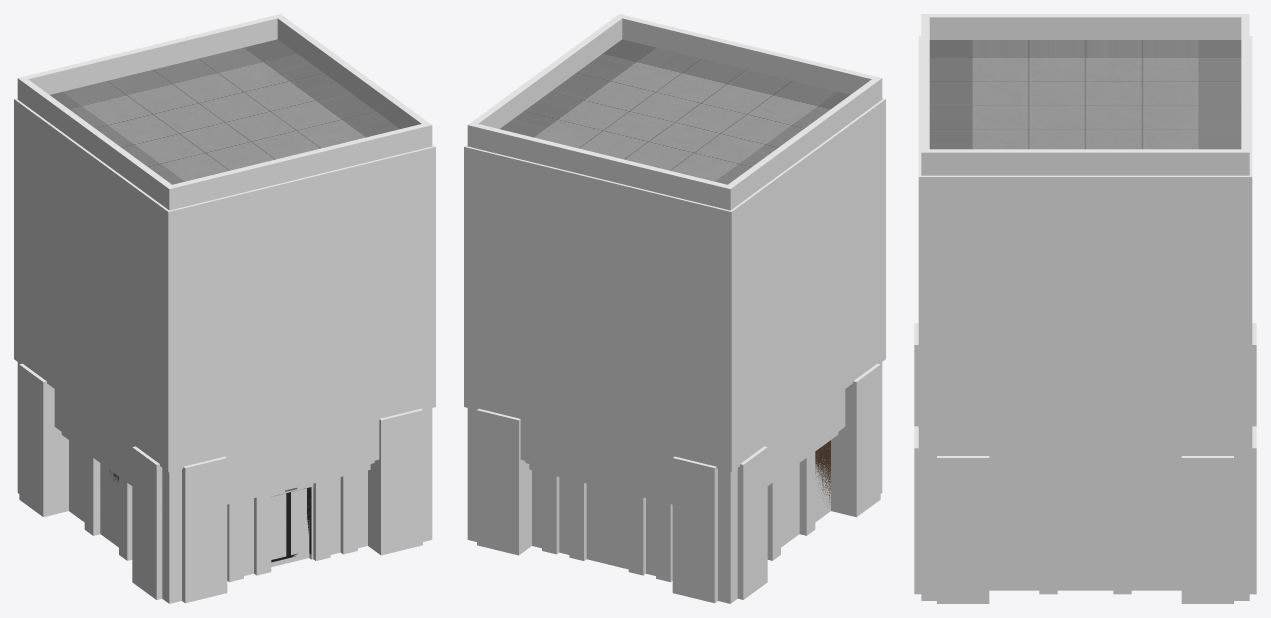
The model's file is objects_un_c03building03.gltf.
3 views of the same model, side by side, from view 1: azimuth 30°, elevation 25°; view 2: azimuth 150°, elevation 25°; view 3: azimuth 270°, elevation 25° (orthographic). The views are drawn at different scales.
Parts seen in each view (by area): view 1: um_objects_un_c03building03_model_lod0Shape:objects_un_c03bu (×2); view 2: um_objects_un_c03building03_model_lod0Shape:objects_un_c03bu (×3); view 3: um_objects_un_c03building03_model_lod0Shape:objects_un_c03bu (×2).
Part boxes in pixels (x1,y1,x2,y2): um_objects_un_c03building03_model_lod0Shape:objects_un_c03bu (×2): (14,14,435,603); um_objects_un_c03building03_model_lod0Shape:objects_un_c03bu (×3): (464,14,885,603); um_objects_un_c03building03_model_lod0Shape:objects_un_c03bu (×2): (914,14,1256,603).
Size of what is drawn, in the model's own units: 12.04 by 17.4 by 12.04.
Materials: 7 (6 with a texture image).
